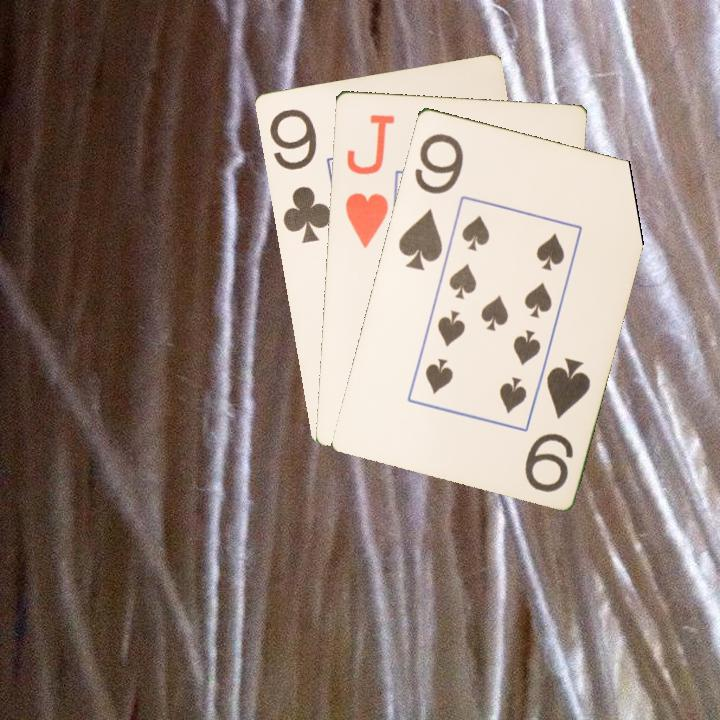9c: (265, 105, 334, 246)
9s: (394, 129, 466, 273), (520, 353, 593, 495)
Jh: (341, 110, 396, 251)
